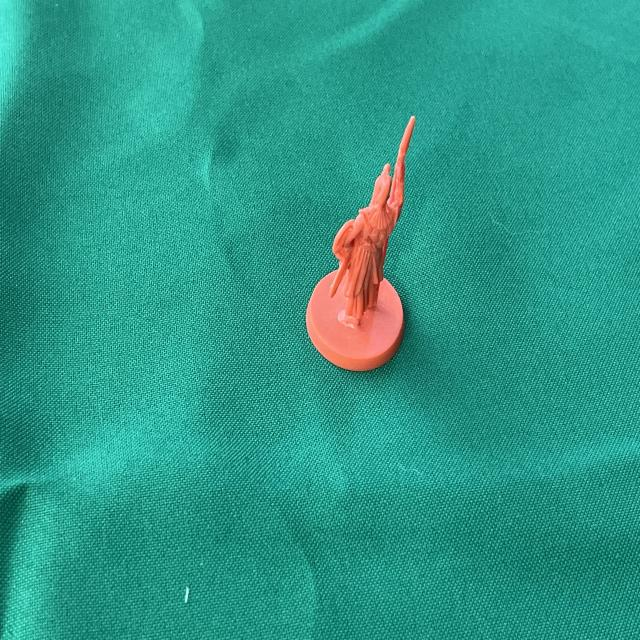amon_follower: (306, 117, 415, 370)
